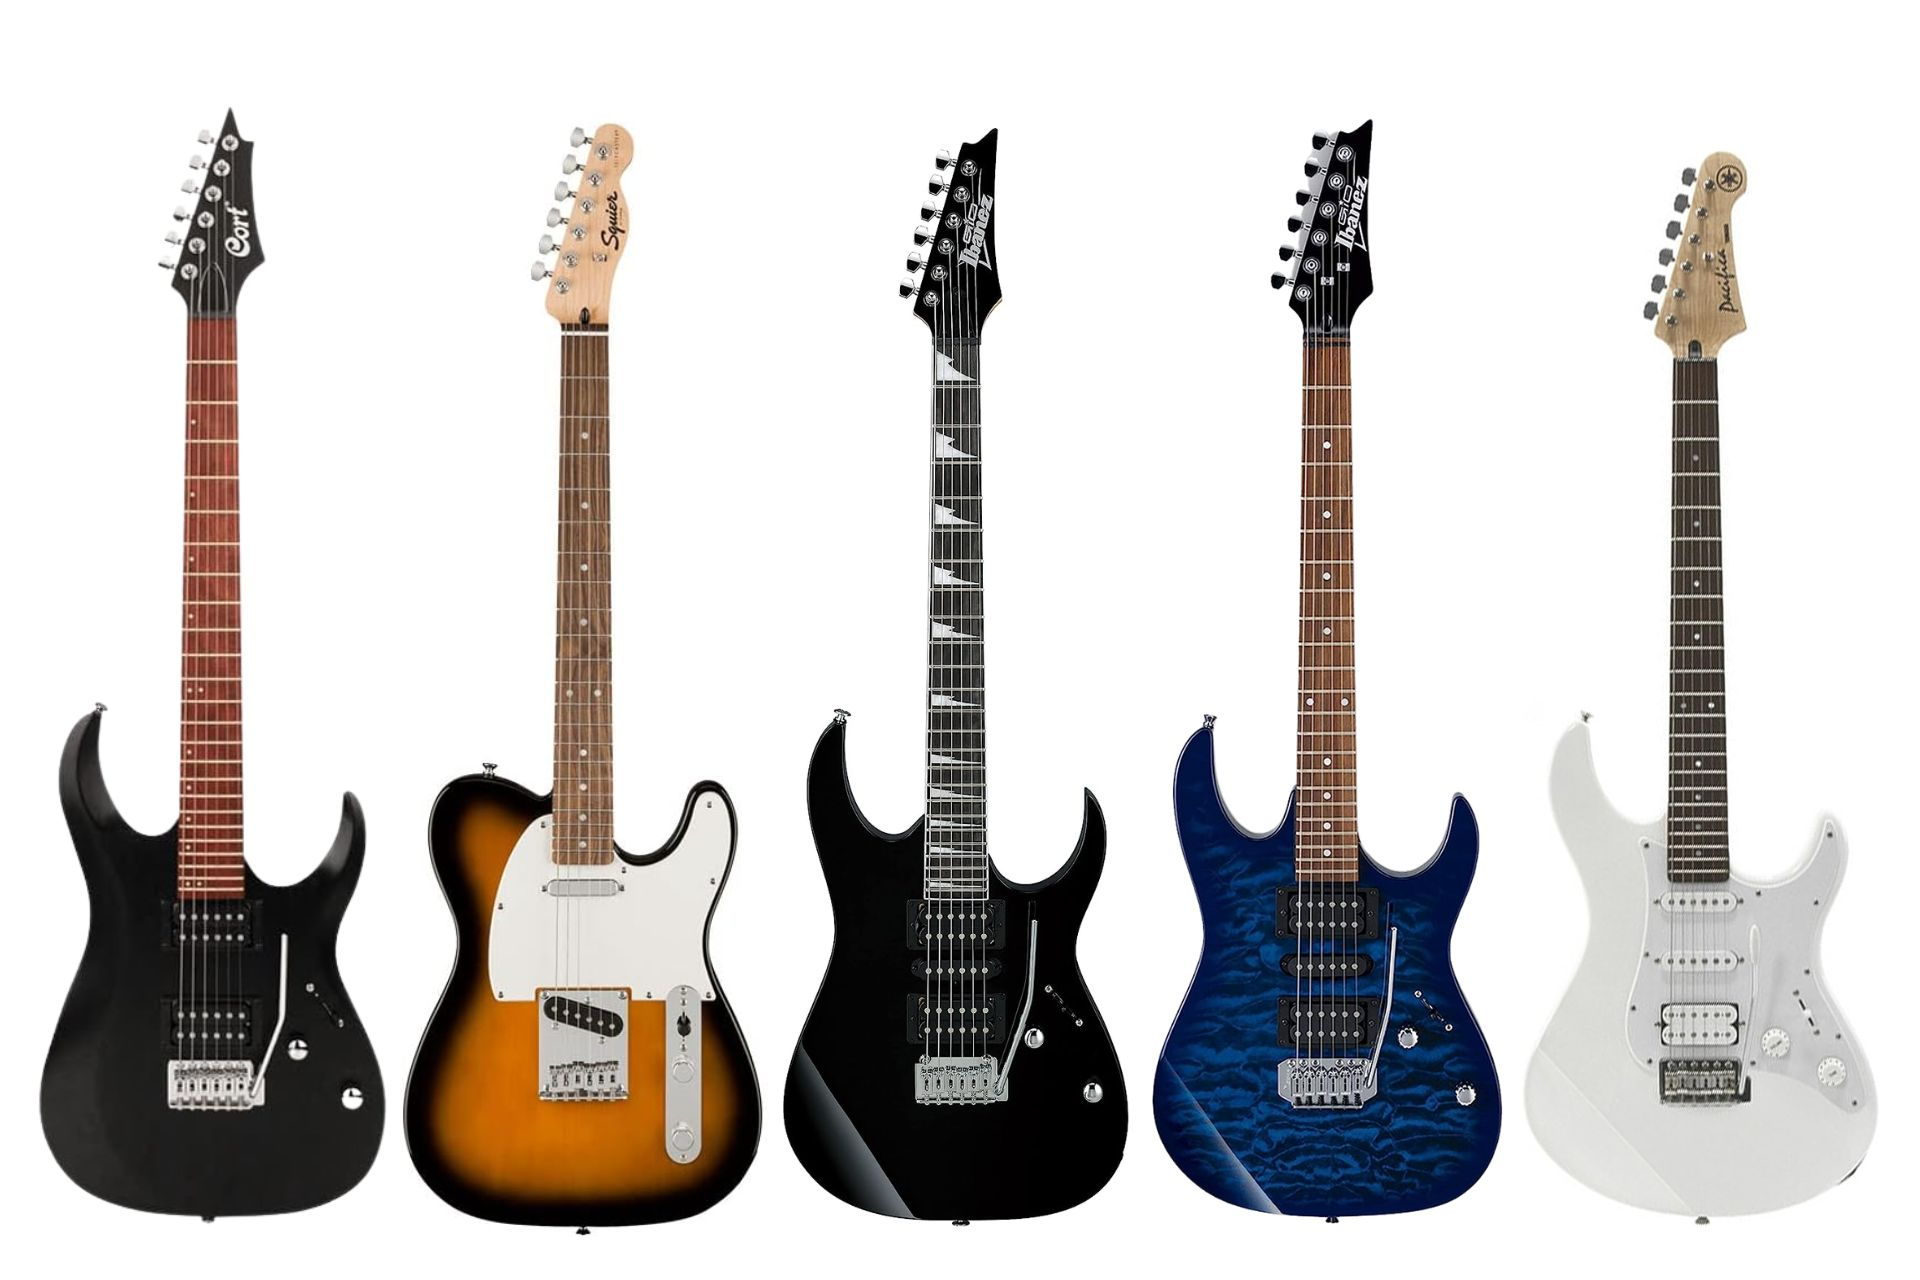guitar: (37, 100, 390, 1223), (403, 123, 760, 1227), (1524, 144, 1881, 1224)
